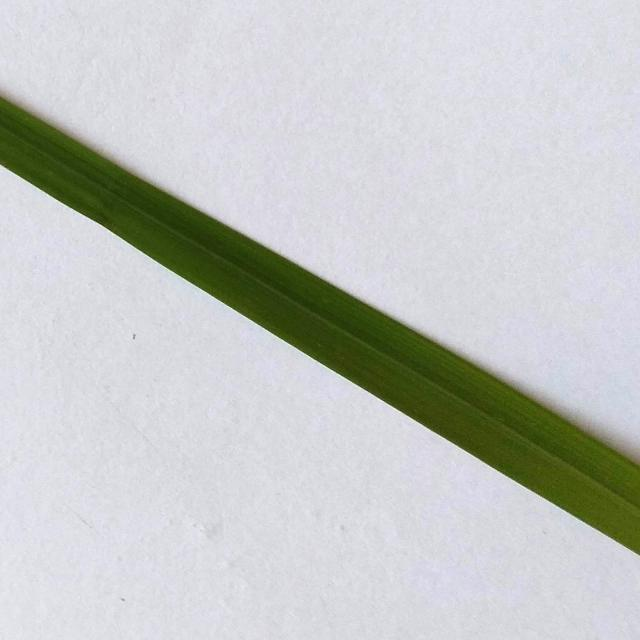healthy: (3, 75, 640, 579)
